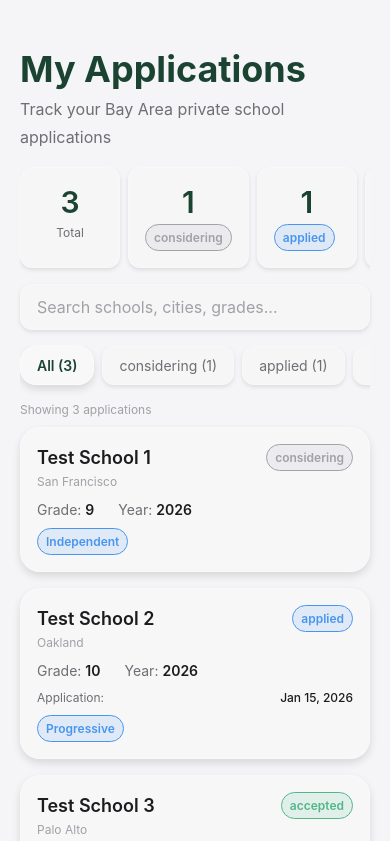
Scenario: DashboardScreen › Filtering › should show all applications when "All" filter is selected
Expected: the text "Showing 3 applications" is shown, x1=20 y1=402 x2=152 y2=417
Filter by status
Step 1. Click the text "applied (1)" → click(293, 366), box x1=259 y1=355 x2=328 y2=376
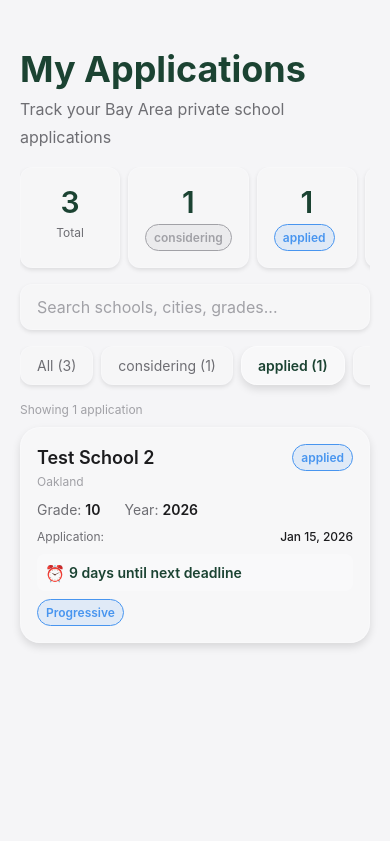
Expected: the text "Showing 1 application" is shown, x1=20 y1=402 x2=143 y2=417
Go back to "All"
Step 2. Click the text "All (3)" → click(57, 366), box x1=37 y1=355 x2=76 y2=376
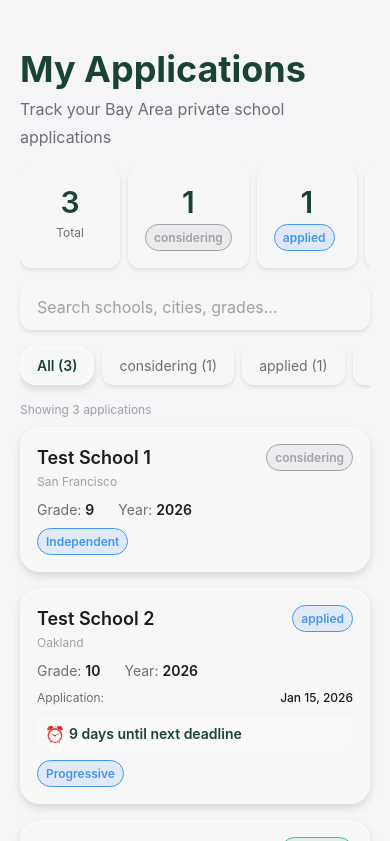
Expected: the text "Showing 3 applications" is shown, x1=20 y1=402 x2=152 y2=417
